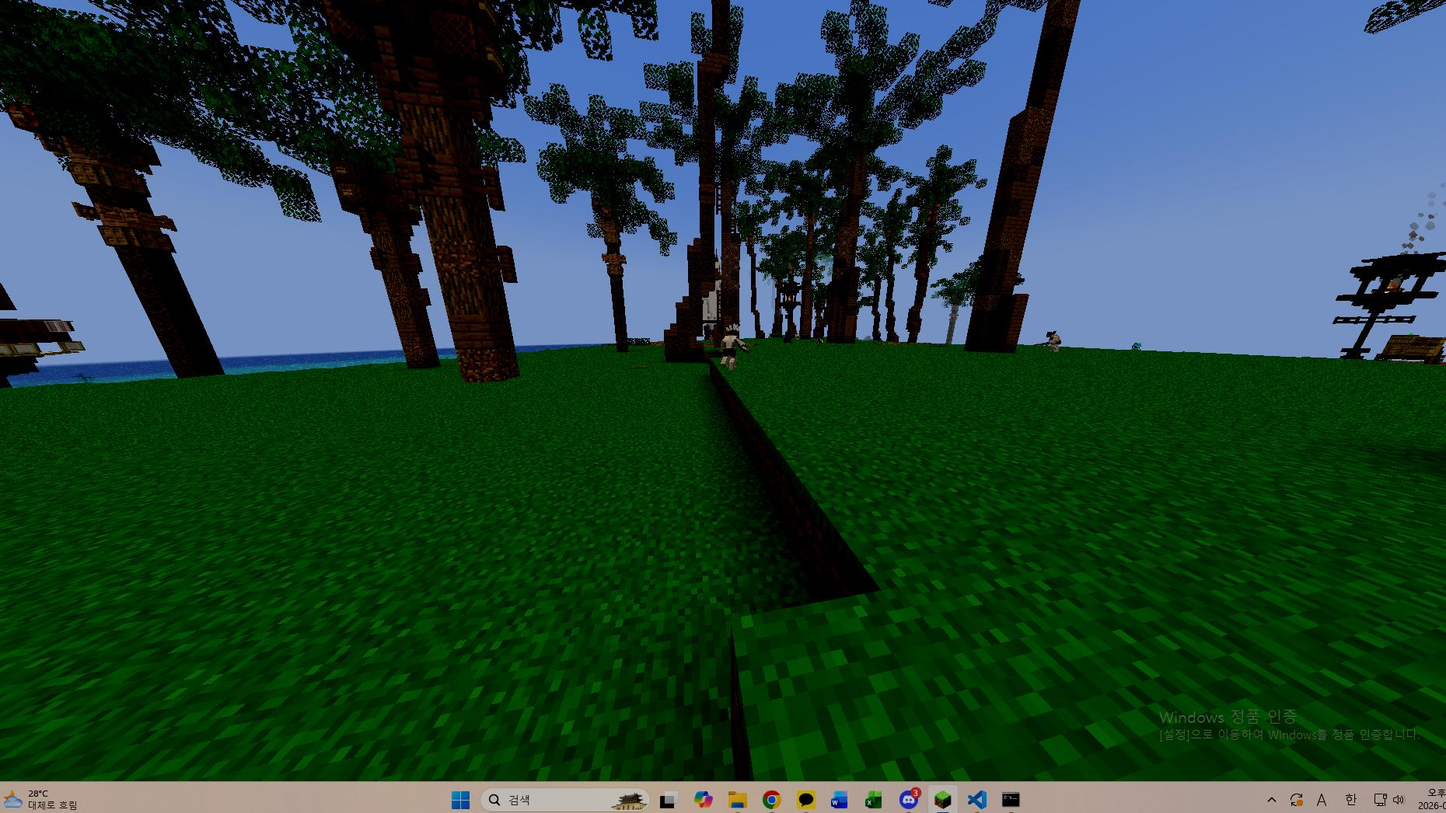bow_indian: (714, 320, 762, 388)
